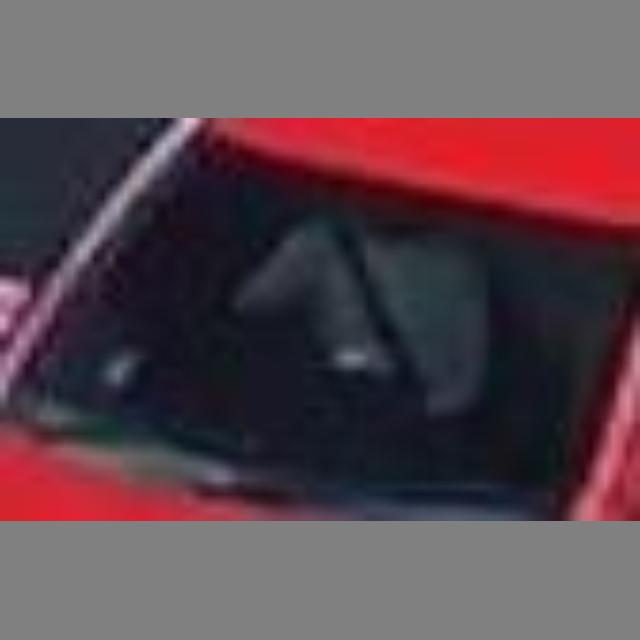pakai: (229, 209, 495, 415)
